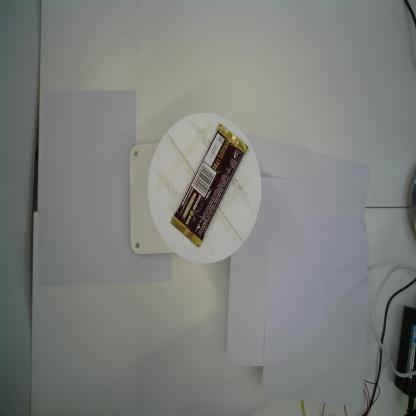Chocolate: (169, 122, 249, 249)
